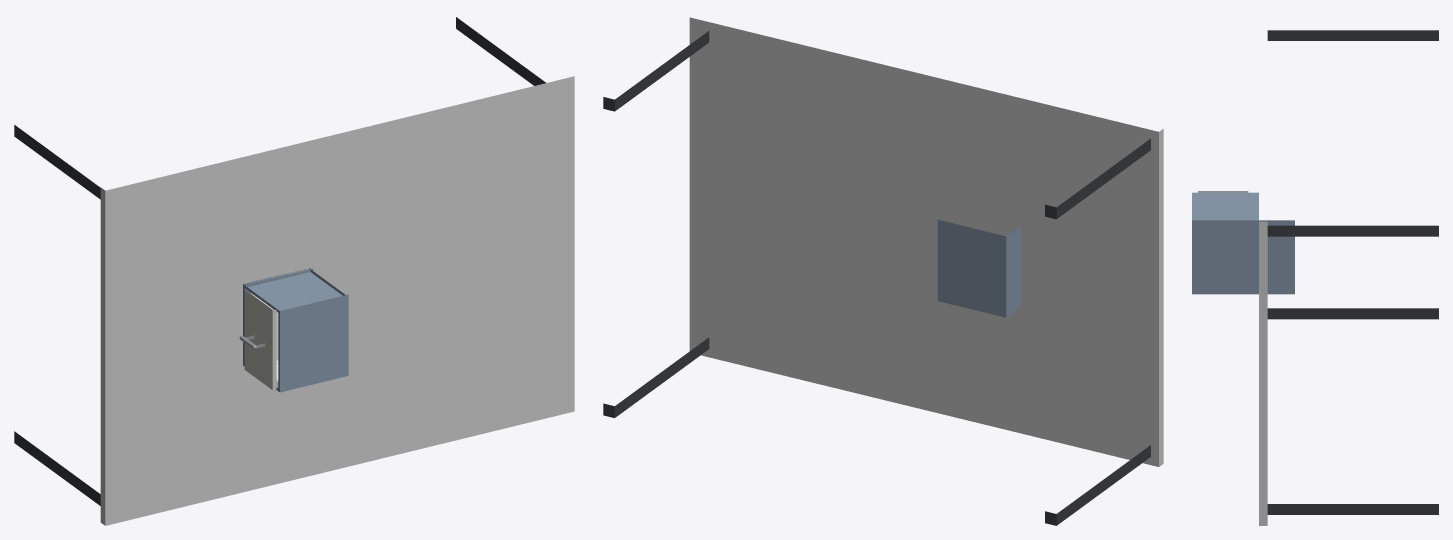
Rendered from t2_b56c75bcdc.glb.
3 renders of one model, left to right at view 1: azimuth 30°, elevation 25°; view 2: azimuth 150°, elevation 25°; view 3: azimuth 270°, elevation 25°, orthographic. The views are drawn at different scales.
Parts seen in each view (by area): view 1: s0, s1, s2; view 2: s0, s1; view 3: s0, s1.
Boxes of the visible parts, x1,y1,x2,y2 form: s0: [14, 17, 574, 525]; s1: [243, 268, 348, 392]; s2: [239, 290, 278, 389]; s0: [603, 17, 1163, 525]; s1: [937, 219, 1021, 317]; s0: [1259, 30, 1438, 525]; s1: [1192, 192, 1294, 294].
Bounding box in the file's own units: 2.05 × 1.4 × 1.03.
